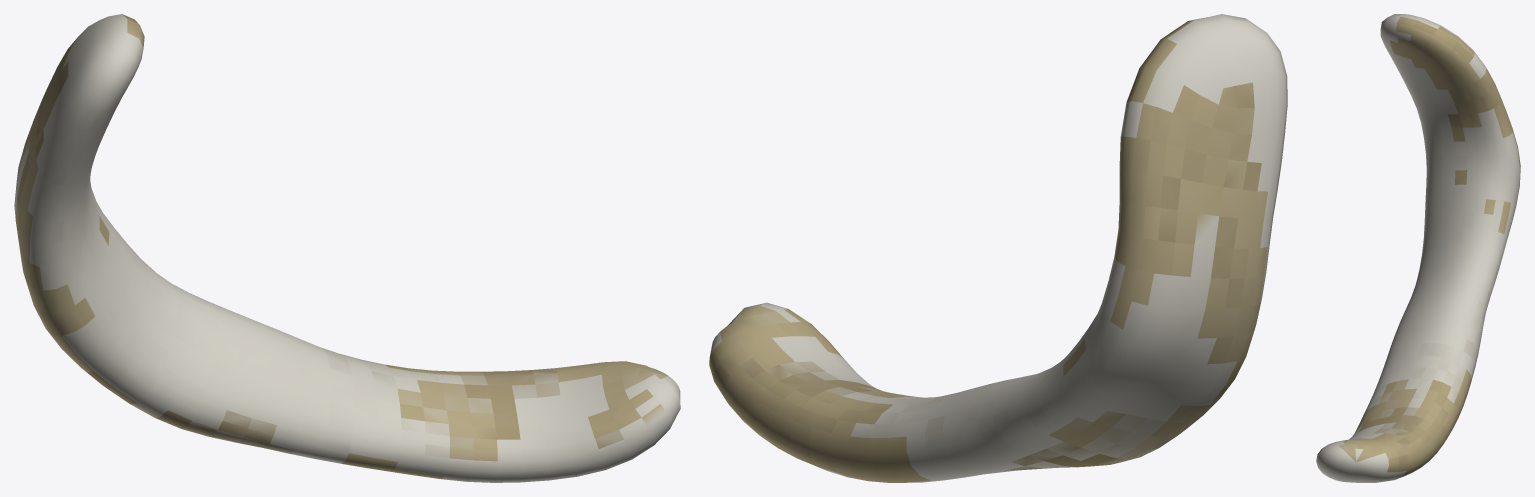
The picture shows the model from 3 angles, left to right: view 1: azimuth 30°, elevation 25°; view 2: azimuth 150°, elevation 25°; view 3: azimuth 270°, elevation 25°; orthographic projection. The views are drawn at different scales.
Parts seen in each view (by area): view 1: CC R02; view 2: CC R02; view 3: CC R02.
Part boxes in pixels (bbox=[...]): CC R02: bbox=[14, 14, 680, 482]; CC R02: bbox=[709, 14, 1287, 482]; CC R02: bbox=[1316, 14, 1520, 482].
Size of the model in its own units: 5.91 by 5.07 by 2.83.
